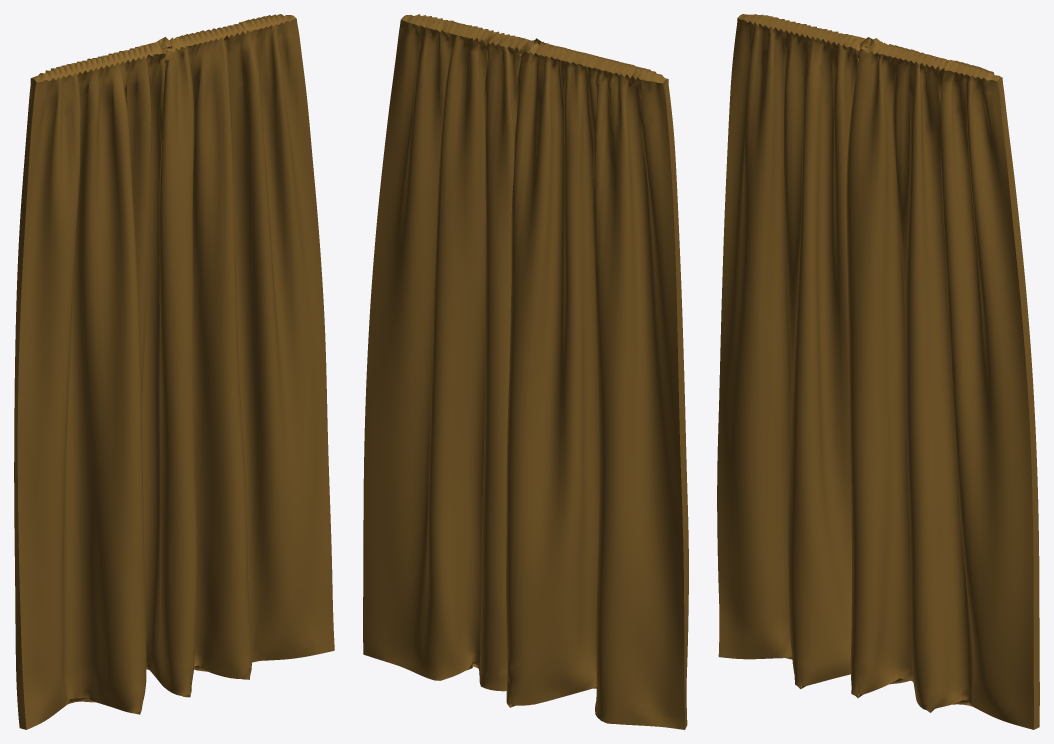
Rendered from orange curtain.fbx.
3 renders of one model, left to right at view 1: azimuth 30°, elevation 25°; view 2: azimuth 150°, elevation 25°; view 3: azimuth 330°, elevation 25°, orthographic.
Visible parts, largest first — view 1: yellow_curtain1; view 2: yellow_curtain1; view 3: yellow_curtain1.
Part boxes in pixels (x1,y1,x2,y2): yellow_curtain1: [14, 14, 334, 729]; yellow_curtain1: [363, 14, 688, 729]; yellow_curtain1: [717, 14, 1039, 729].
Bounding box in the file's own units: 29.1 × 57.25 × 7.44.
